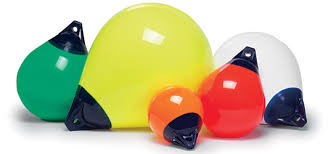buoy: (197, 63, 266, 139), (149, 87, 203, 152)
